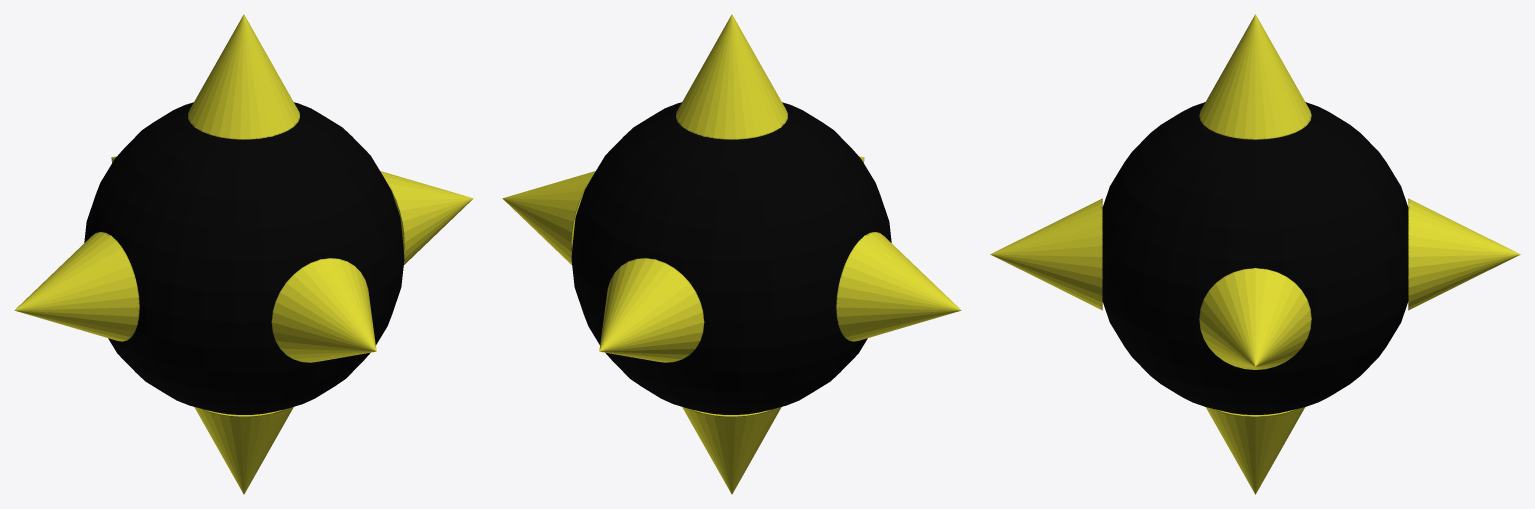
File: iron_thorns_ball.fbx
3 renders of one model, left to right at view 1: azimuth 30°, elevation 25°; view 2: azimuth 150°, elevation 25°; view 3: azimuth 270°, elevation 25°, orthographic.
Visible parts, largest first — view 1: Sphere, LeftCone, Center1Cone, TopCone, BottomCone, Center2Cone.; view 2: Sphere, RightCone, Center1Cone, TopCone, BottomCone, Center2Cone.; view 3: Sphere, Center2Cone., TopCone, RightCone, LeftCone, BottomCone.
Part boxes in pixels (left/top/right/bottom): Sphere: left=84, top=102, right=404, bottom=414; LeftCone: left=271, top=258, right=376, bottom=362; Center1Cone: left=14, top=232, right=139, bottom=341; TopCone: left=188, top=14, right=299, bottom=139; BottomCone: left=194, top=407, right=293, bottom=494; Center2Cone.: left=380, top=171, right=473, bottom=265; Sphere: left=571, top=102, right=891, bottom=414; RightCone: left=599, top=258, right=704, bottom=362; Center1Cone: left=836, top=232, right=961, bottom=341; TopCone: left=676, top=14, right=787, bottom=139; BottomCone: left=682, top=407, right=781, bottom=494; Center2Cone.: left=502, top=171, right=595, bottom=265; Sphere: left=1102, top=102, right=1408, bottom=414; Center2Cone.: left=1199, top=268, right=1311, bottom=369; TopCone: left=1199, top=14, right=1311, bottom=139; RightCone: left=1408, top=198, right=1520, bottom=310; LeftCone: left=990, top=198, right=1102, bottom=310; BottomCone: left=1206, top=407, right=1304, bottom=494.
Bounding box in the file's own units: 330 × 330 × 330.
